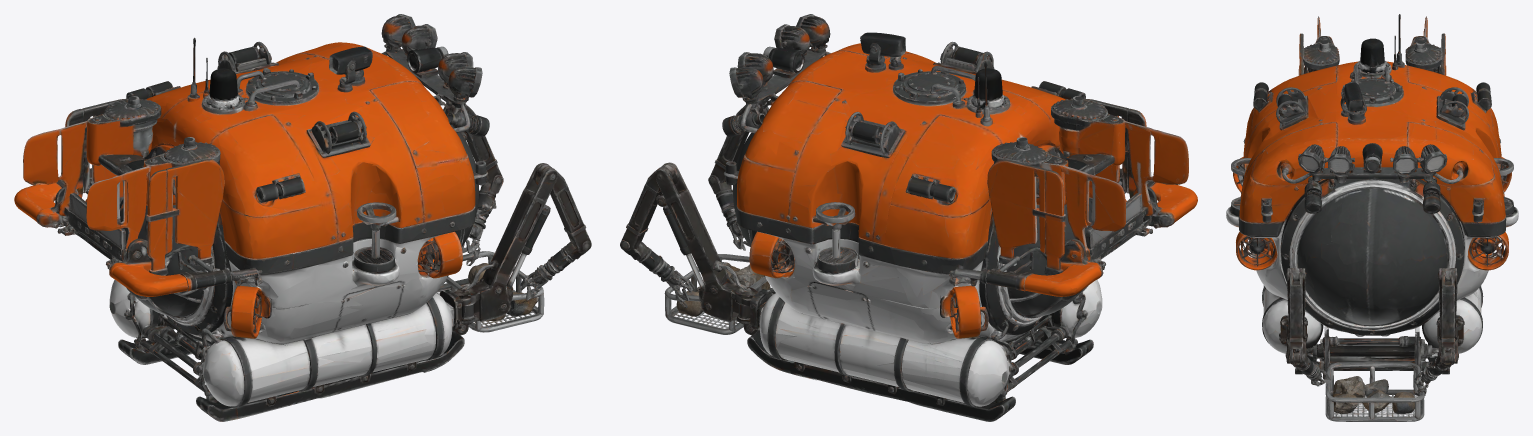
The picture shows the model from 3 angles, left to right: view 1: azimuth 30°, elevation 25°; view 2: azimuth 150°, elevation 25°; view 3: azimuth 270°, elevation 25°; orthographic projection. The views are drawn at different scales.
Visible parts, largest first — view 1: Mesh_0; view 2: Mesh_0; view 3: Mesh_0.
Part boxes in pixels (bbox=[...]): Mesh_0: bbox=[14, 14, 591, 421]; Mesh_0: bbox=[620, 14, 1197, 421]; Mesh_0: bbox=[1226, 14, 1518, 421].
Bounding box in the file's own units: 1.89 × 1.23 × 1.14.
Materials: 1 (1 with a texture image).
